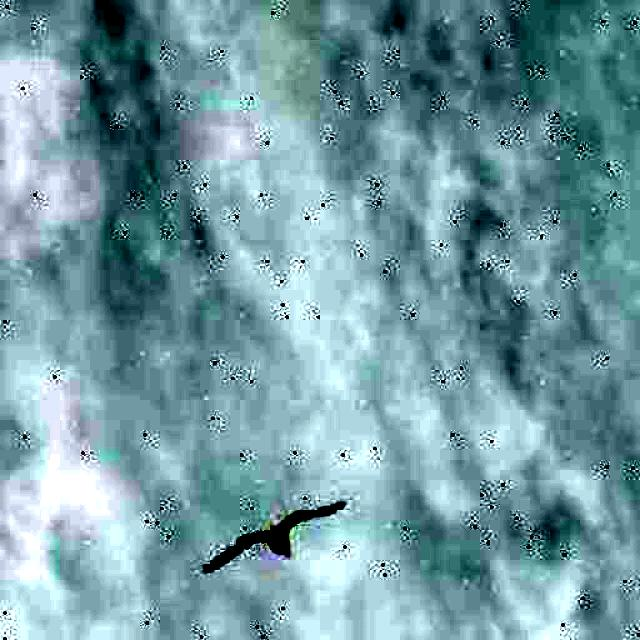airplane: (196, 499, 354, 575)
